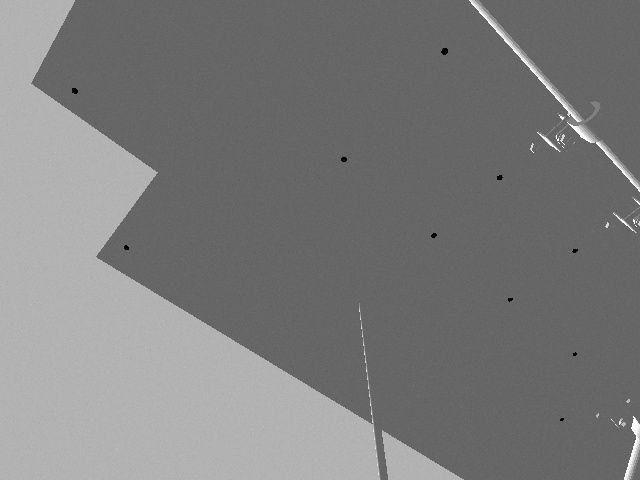hole: (438, 46, 451, 57), (70, 86, 80, 96), (339, 155, 349, 164), (429, 231, 439, 240), (495, 173, 505, 182), (122, 243, 131, 252), (570, 349, 579, 358), (557, 415, 566, 424), (570, 247, 580, 255), (506, 296, 515, 303)
